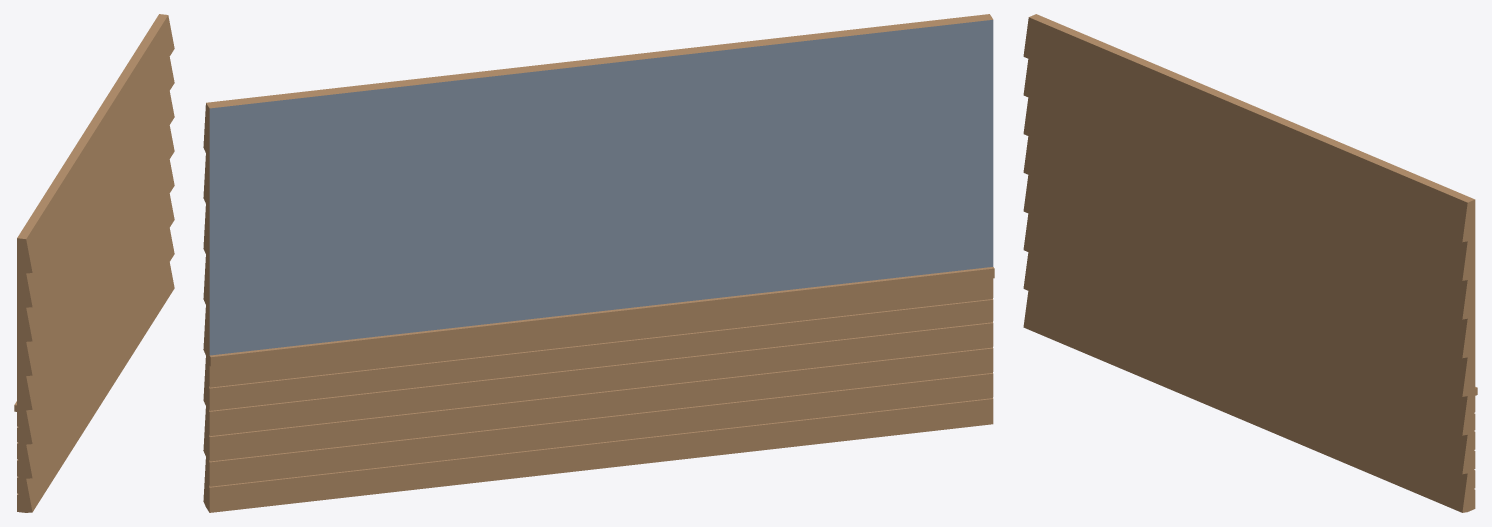
File: Wall D-col.glb
The picture shows the model from 3 angles, left to right: view 1: azimuth 30°, elevation 25°; view 2: azimuth 150°, elevation 25°; view 3: azimuth 270°, elevation 25°; orthographic projection. The views are drawn at different scales.
Parts seen in each view (by area): view 1: Wall D-col.001; view 2: Wall D-col.001; view 3: Wall D-col.001.
Boxes of the visible parts, box(x1,y1,x2,y2) form: Wall D-col.001: box(14, 14, 174, 512); Wall D-col.001: box(203, 14, 994, 512); Wall D-col.001: box(1023, 14, 1477, 512).
Size of the model in its own units: 2.93 by 2.2 by 2.93.
